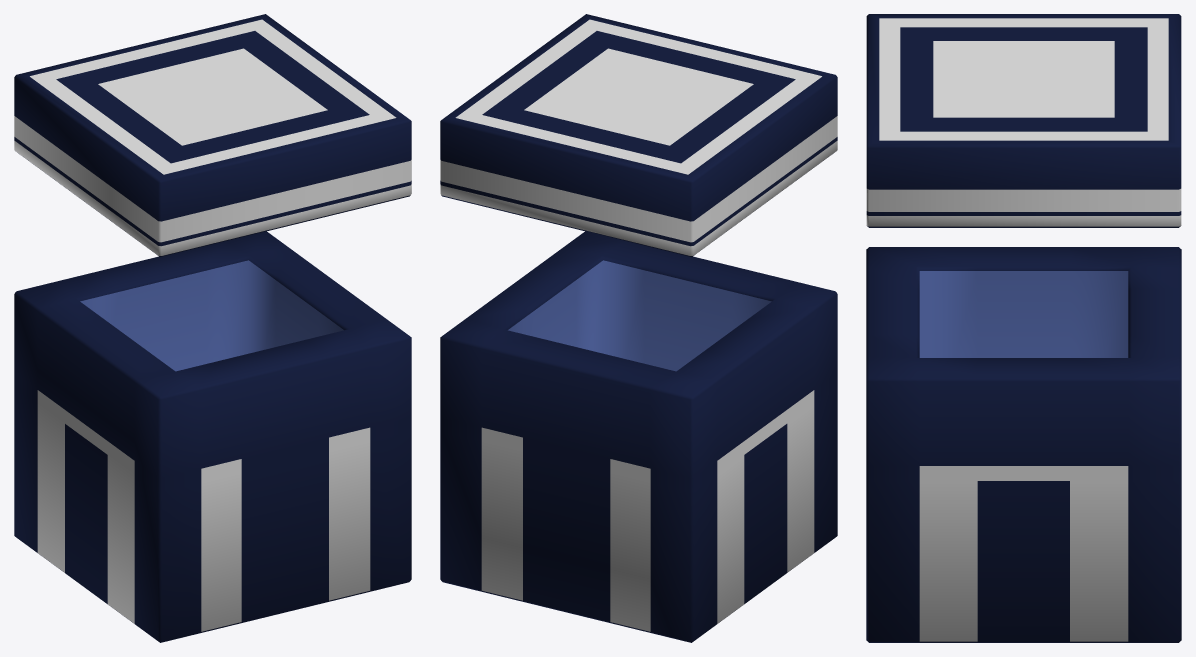
Rendered from Digi Crates (Chest).fbx.
3 views of the same model, side by side, from view 1: azimuth 30°, elevation 25°; view 2: azimuth 150°, elevation 25°; view 3: azimuth 270°, elevation 25° (orthographic). The views are drawn at different scales.
Parts seen in each view (by area): view 1: Box, Tutup; view 2: Box, Tutup; view 3: Box, Tutup.
Part boxes in pixels (bbox=[...]): Box: bbox=[14, 231, 411, 642]; Tutup: bbox=[14, 14, 411, 257]; Box: bbox=[440, 231, 837, 642]; Tutup: bbox=[440, 14, 837, 257]; Box: bbox=[866, 247, 1181, 642]; Tutup: bbox=[866, 14, 1181, 227].
Bounding box in the file's own units: 795 × 1387 × 795.
